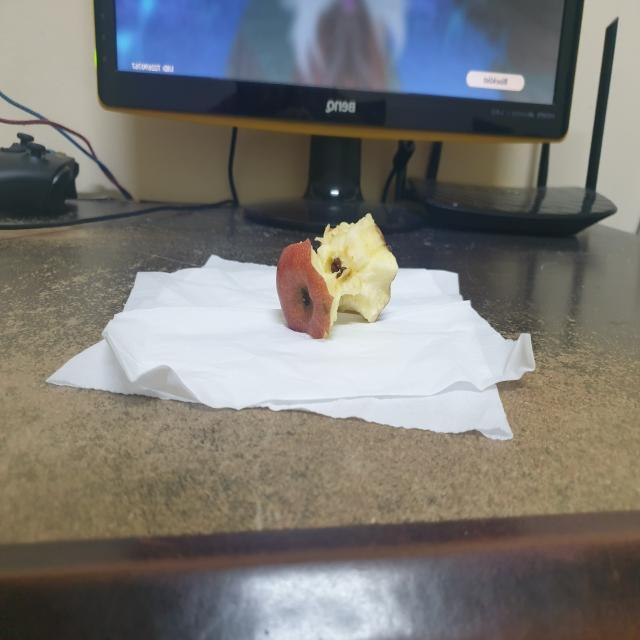apple: (258, 204, 406, 346)
